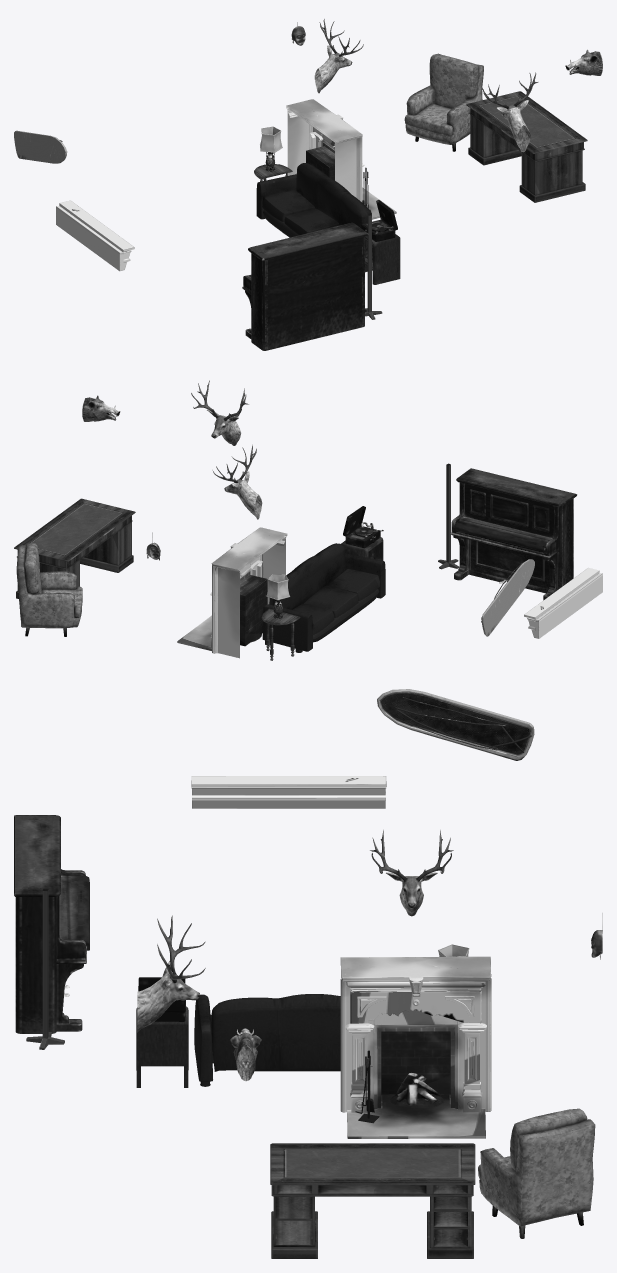
Rendered from BigObjects.fbx.
3 renders of one model, top to bottom at view 1: azimuth 30°, elevation 25°; view 2: azimuth 150°, elevation 25°; view 3: azimuth 270°, elevation 25°, orthographic. The views are drawn at different scales.
Visible parts, largest first — view 1: GroupBig; view 2: GroupBig; view 3: GroupBig.
Part boxes in pixels (bbox=[...]): GroupBig: bbox=[14, 19, 602, 350]; GroupBig: bbox=[14, 380, 602, 660]; GroupBig: bbox=[14, 689, 602, 1258].
Size of the model in its own units: 27.29 by 9.48 by 18.39.
